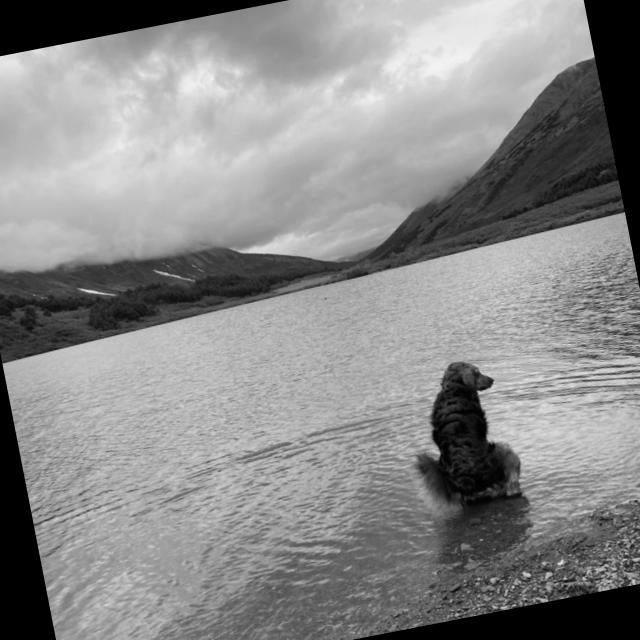squatting: (390, 345, 534, 524)
